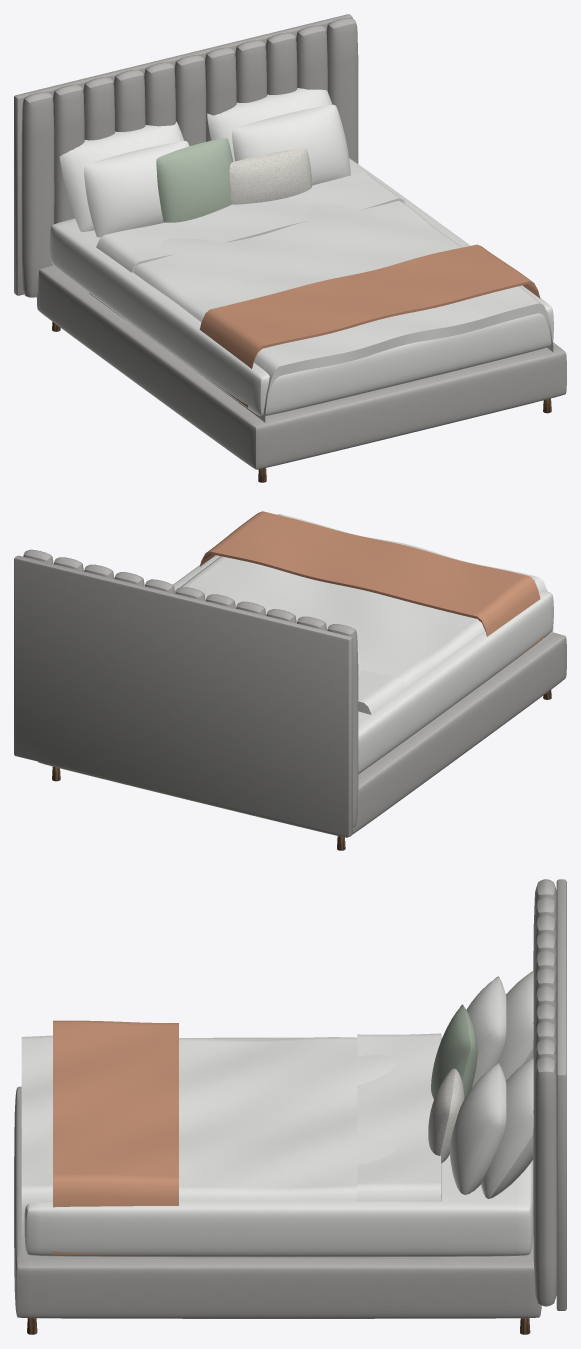
The model's file is cama-queen-tapizada-v2.gltf.
3 renders of one model, top to bottom at view 1: azimuth 30°, elevation 25°; view 2: azimuth 150°, elevation 25°; view 3: azimuth 270°, elevation 25°, orthographic. The views are drawn at different scales.
Visible parts, largest first — view 1: cama-queen-tapizada__f_lino_gris, cama-queen-tapizada__f_algodon, cama-queen-tapizada__f_colchon, cama-queen-tapizada__f_manta, cama-queen-tapizada__f_lino_salvia, cama-queen-tapizada__f_boucle; view 2: cama-queen-tapizada__f_lino_gris, cama-queen-tapizada__f_manta, cama-queen-tapizada__f_algodon, cama-queen-tapizada__f_colchon; view 3: cama-queen-tapizada__f_algodon, cama-queen-tapizada__f_lino_gris, cama-queen-tapizada__f_colchon, cama-queen-tapizada__f_manta, cama-queen-tapizada__f_lino_salvia, cama-queen-tapizada__f_boucle.
Part boxes in pixels (x1,y1,x2,y2): cama-queen-tapizada__f_lino_gris: (14, 14, 566, 469); cama-queen-tapizada__f_algodon: (59, 88, 553, 422); cama-queen-tapizada__f_colchon: (50, 158, 553, 416); cama-queen-tapizada__f_manta: (199, 244, 540, 407); cama-queen-tapizada__f_lino_salvia: (156, 138, 233, 222); cama-queen-tapizada__f_boucle: (229, 147, 312, 204); cama-queen-tapizada__f_lino_gris: (14, 549, 566, 837); cama-queen-tapizada__f_manta: (200, 511, 544, 672); cama-queen-tapizada__f_algodon: (175, 514, 553, 761); cama-queen-tapizada__f_colchon: (173, 555, 553, 774); cama-queen-tapizada__f_algodon: (21, 971, 533, 1259); cama-queen-tapizada__f_lino_gris: (14, 879, 566, 1318); cama-queen-tapizada__f_colchon: (24, 1037, 533, 1257); cama-queen-tapizada__f_manta: (53, 1020, 178, 1254); cama-queen-tapizada__f_lino_salvia: (431, 1004, 477, 1098); cama-queen-tapizada__f_boucle: (428, 1068, 464, 1163).
Size of the model in its own units: 1.77 by 1.17 by 2.11.
7 materials, 7 textured.
